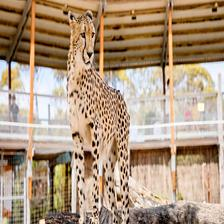Cheetah: (62, 11, 132, 224)
